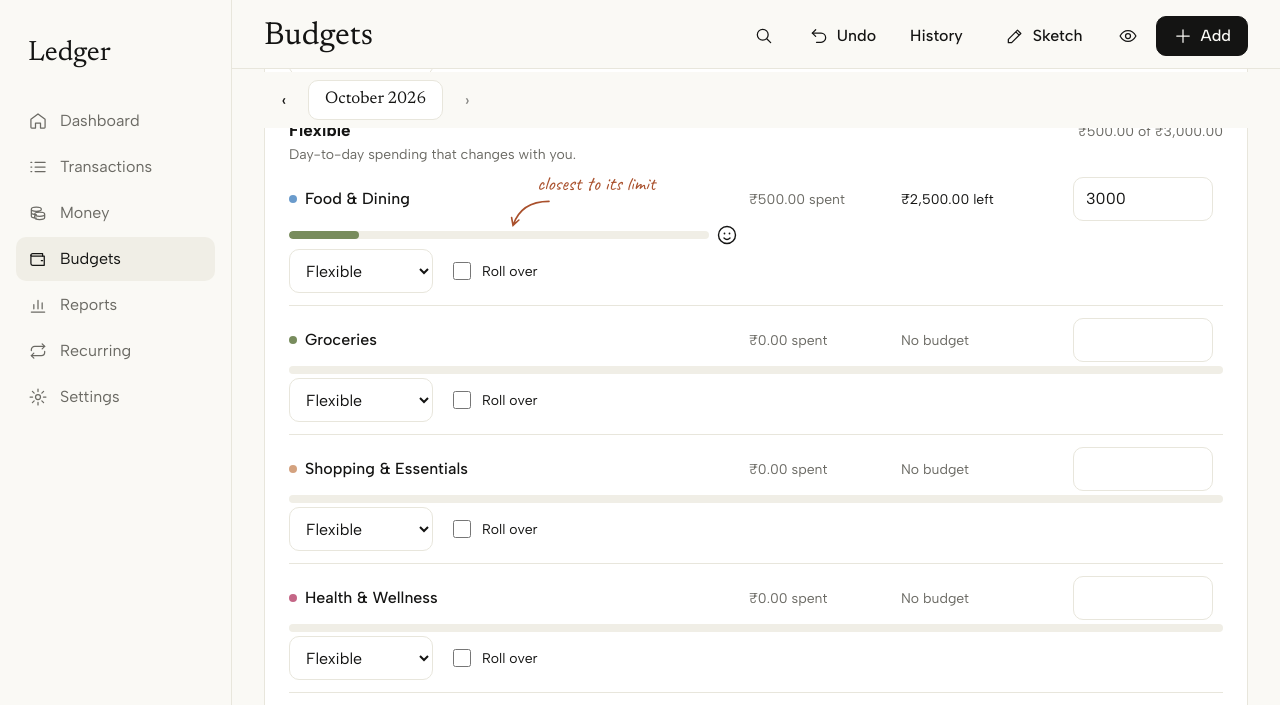
Test case: the Budgets page › groups categories by type, changes a type and turns on rollover
The image size is (1280, 705).
(page scrolled)
Check: the heading "Budgets" is shown, box [264,20,373,52]
Select "Fixed" in the dropdown named "Type of Groceries": {"x": 361, "y": 400} [289,378,433,422]
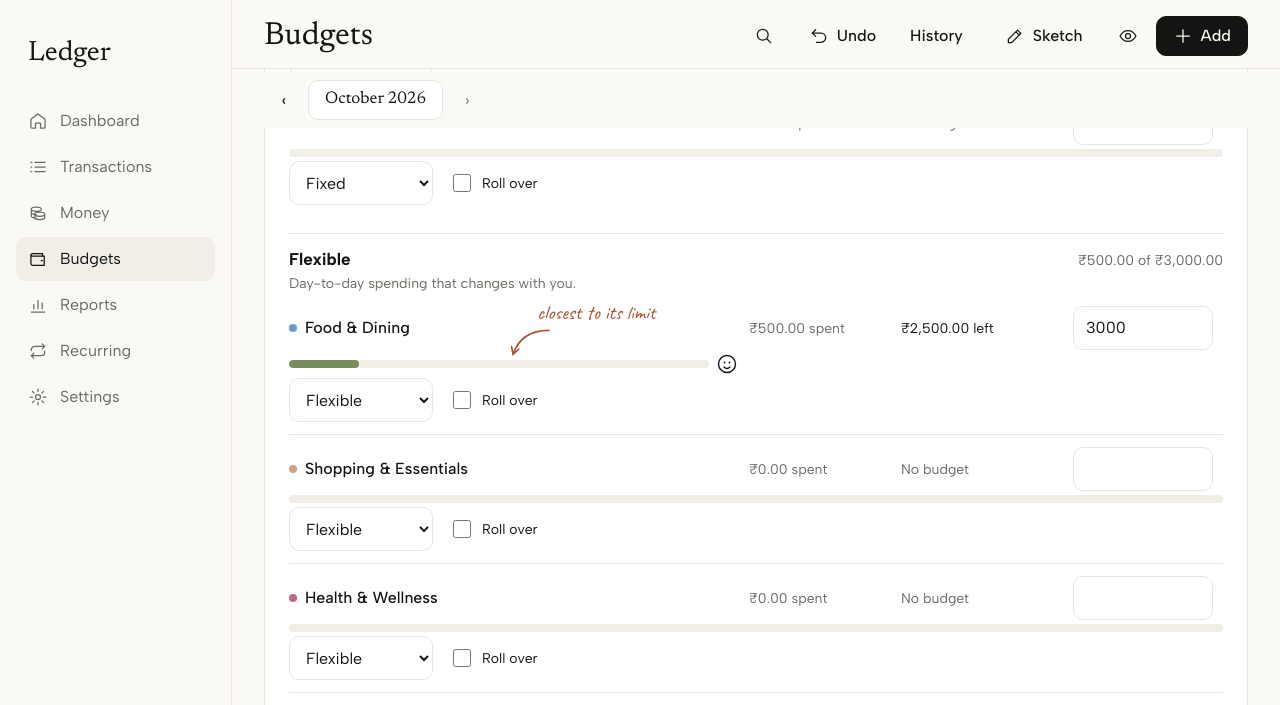
Check: the list item with test id "budget-row-groceries" is shown, box [289,89,1223,217]
Click the 2nd checkbox labelled "Roll over": {"x": 462, "y": 400} [453,391,471,409]
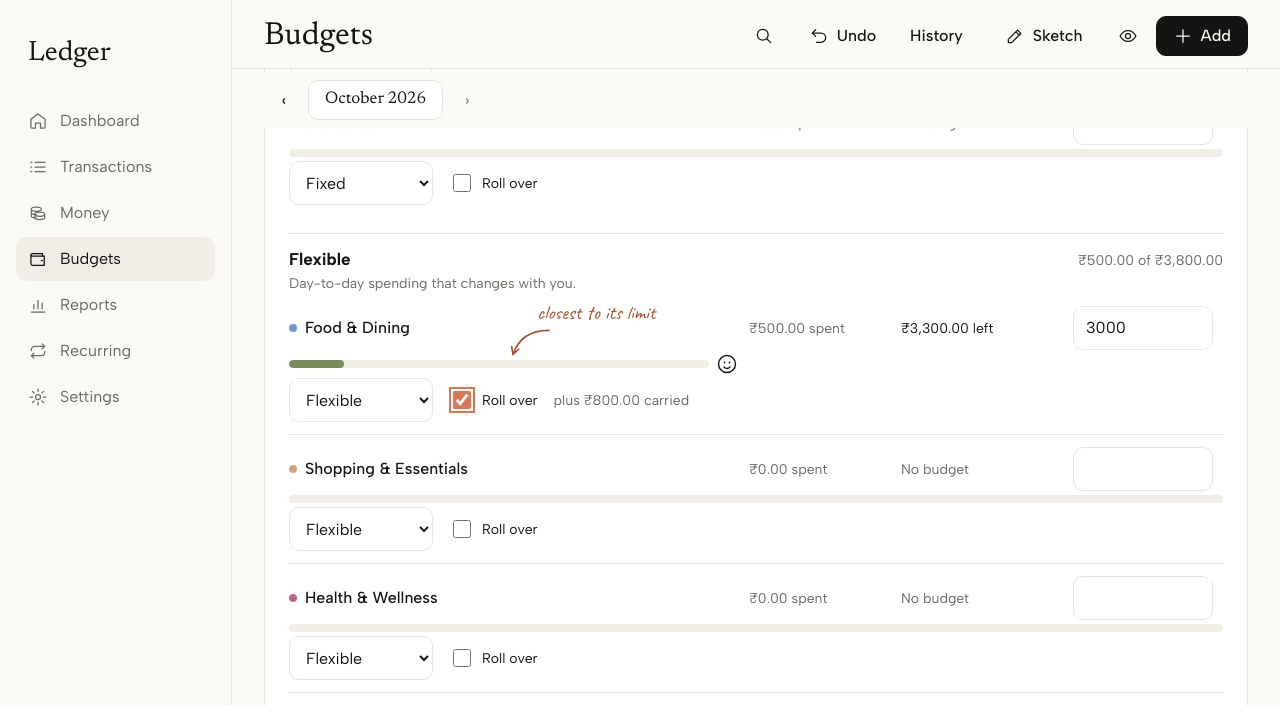
Check: the element with test id "budget-carry" reads "plus ₹800.00 carried", box [554,390,689,411]
Check: the text "₹3,300.00 left" is shown, box [901,320,993,336]
Check: the element with test id "budget-subtotal-flexible" reads "₹500.00 of ₹3,800.00", box [1078,250,1223,272]
